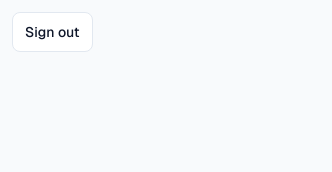
Test: keeps the user on the page if sign out fails
Click the button "Sign out": (52, 32) [12,12,93,52]
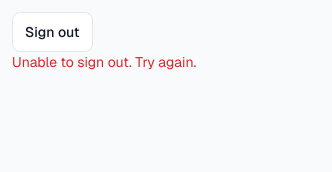
Now the text "Unable to sign out" is shown, box [12,53,196,71]
